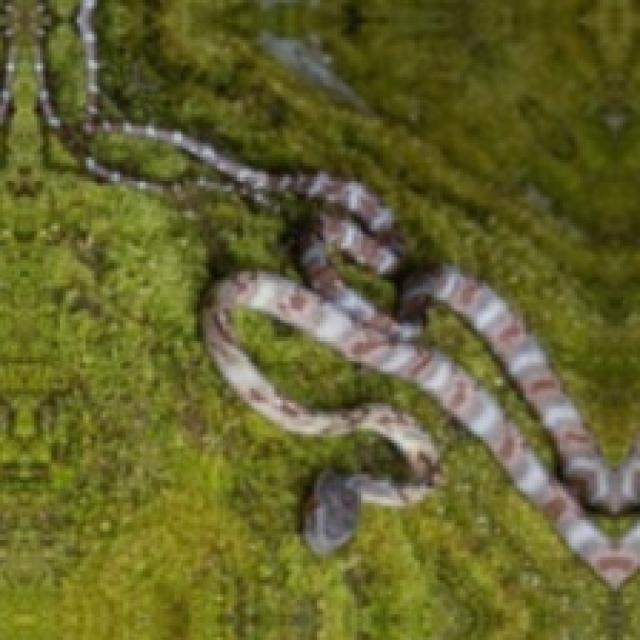dog-toothed cat snake: (83, 0, 640, 588), (302, 441, 439, 552)
